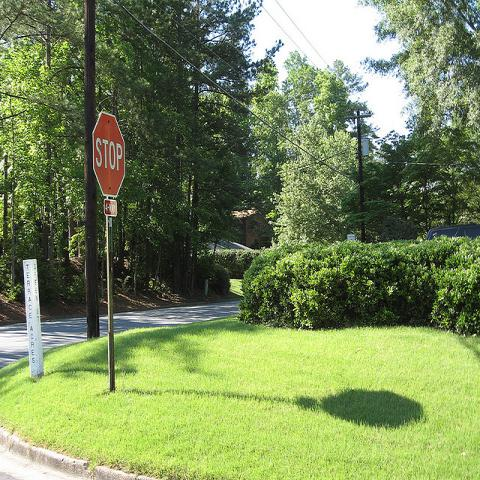car: (427, 223, 479, 241)
